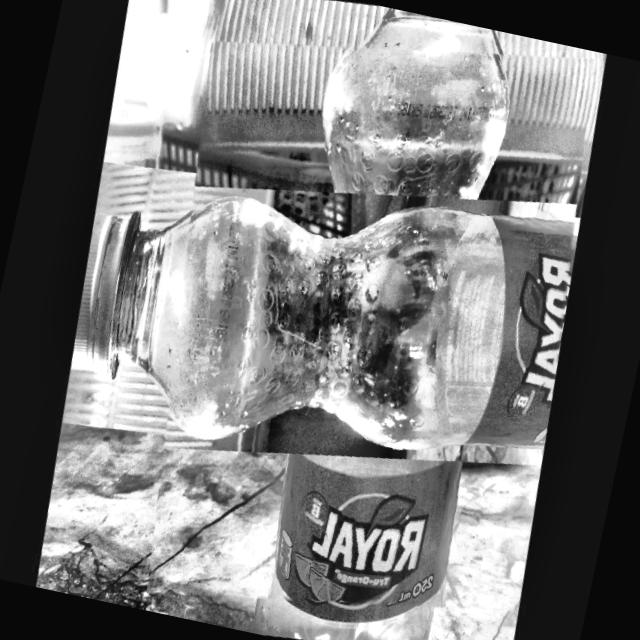Plastic-Bottle: (101, 0, 633, 640)
